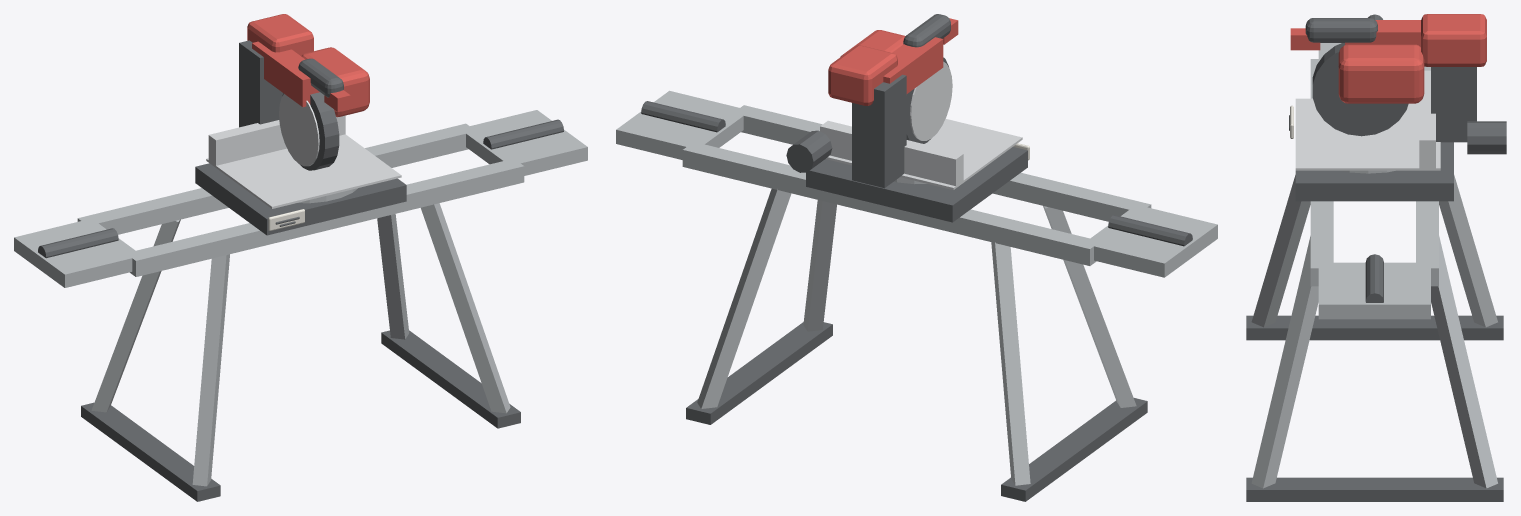
The model's file is woodworking-workshop-and-joinery-woodworking-workshop--17093d56__34241.glb.
The picture shows the model from 3 angles, left to right: view 1: azimuth 30°, elevation 25°; view 2: azimuth 150°, elevation 25°; view 3: azimuth 270°, elevation 25°; orthographic projection. The views are drawn at different scales.
Visible parts, largest first — view 1: woodworking-workshop-and-joinery-mitre-saw-on-stand, saw-head/red, saw-head/charcoal, saw-head/steel; view 2: woodworking-workshop-and-joinery-mitre-saw-on-stand, saw-head/red, saw-head/steel, saw-head/charcoal; view 3: woodworking-workshop-and-joinery-mitre-saw-on-stand, saw-head/red, saw-head/charcoal.
Part boxes in pixels (x1,y1,x2,y2): woodworking-workshop-and-joinery-mitre-saw-on-stand: [14, 14, 587, 501]; saw-head/red: [252, 41, 369, 117]; saw-head/charcoal: [282, 58, 343, 170]; saw-head/steel: [279, 94, 319, 166]; woodworking-workshop-and-joinery-mitre-saw-on-stand: [616, 45, 1217, 501]; saw-head/red: [840, 18, 958, 93]; saw-head/steel: [910, 61, 952, 140]; saw-head/charcoal: [903, 14, 950, 143]; woodworking-workshop-and-joinery-mitre-saw-on-stand: [1246, 14, 1506, 501]; saw-head/red: [1290, 20, 1424, 103]; saw-head/charcoal: [1305, 18, 1408, 136].
Bounding box in the file's own units: 2.02 × 1.34 × 0.7899.
